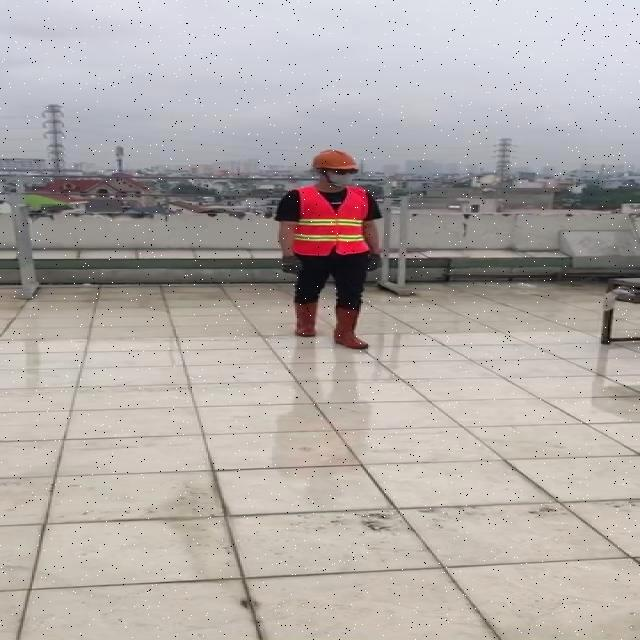Hard_hat: (306, 146, 362, 175)
Person: (267, 142, 388, 355)
Vest: (289, 184, 366, 258)
